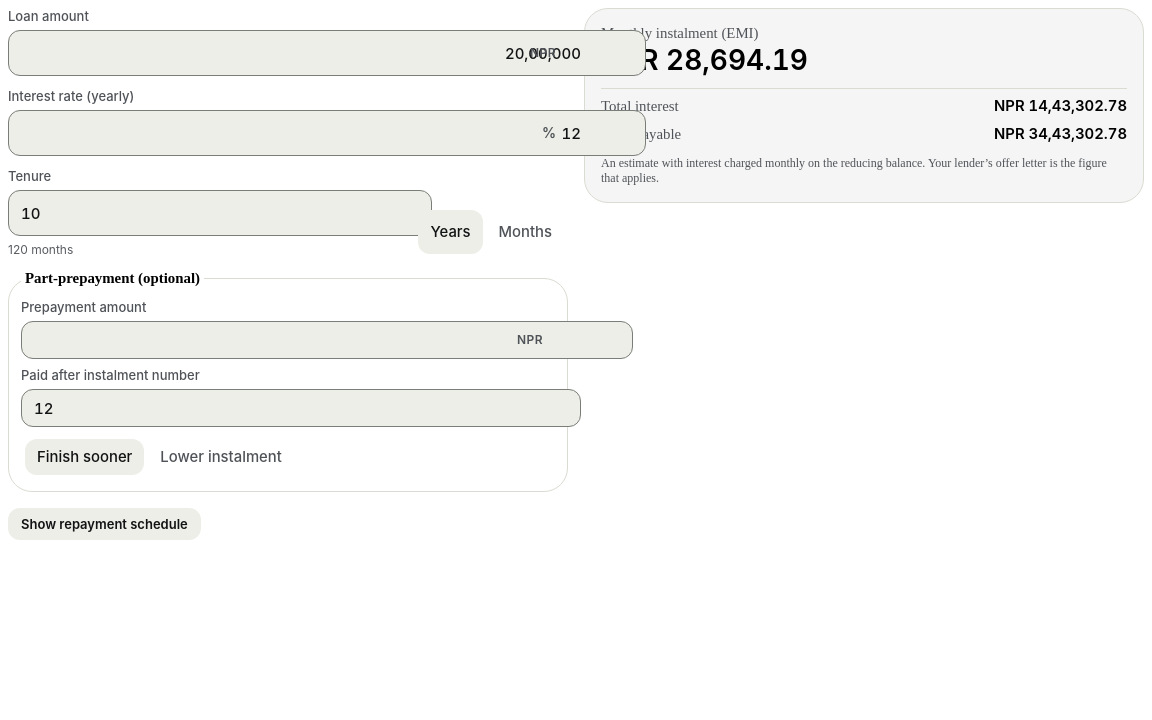
Test: LoanCalculator › reports savings from a prepayment and validates the tenure
Type "500000" into the field with test id "lc-prepay" at (327, 340), box x1=21 y1=321 x2=633 y2=359
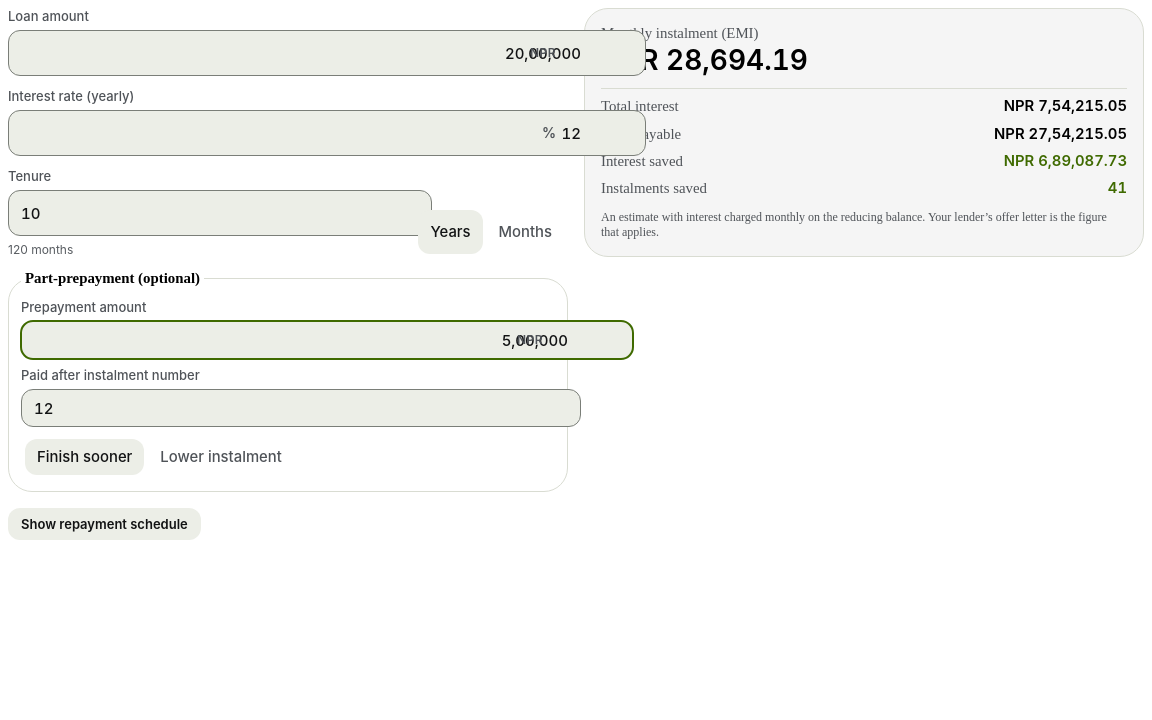
Expected: the text "Interest saved" is shown, x1=601 y1=153 x2=683 y2=170
Expected: the text "Instalments saved" is shown, x1=601 y1=180 x2=707 y2=197
Replace the text in the field with test id "lc-tenure" with "45" at (220, 213), box x1=8 y1=190 x2=432 y2=236
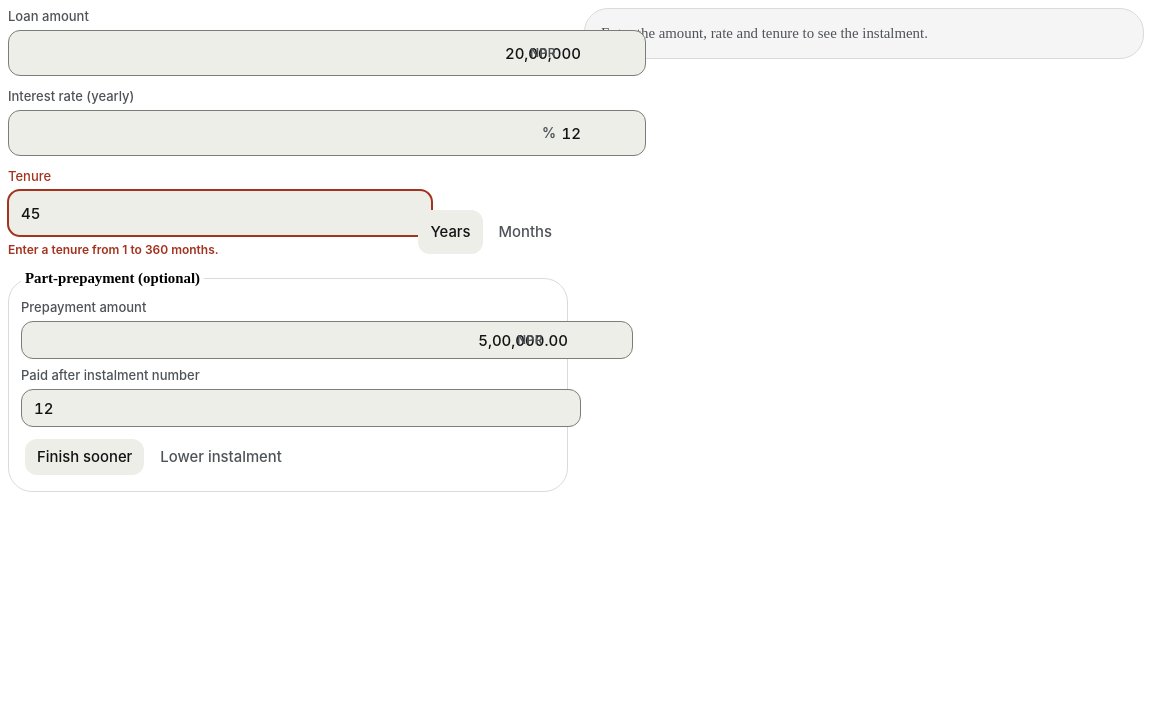
Expected: the text "Enter the amount, rate and tenure to see the instalment." is shown, x1=601 y1=25 x2=928 y2=41
Expected: the message shows "1 to 360 months", x1=8 y1=242 x2=219 y2=257
